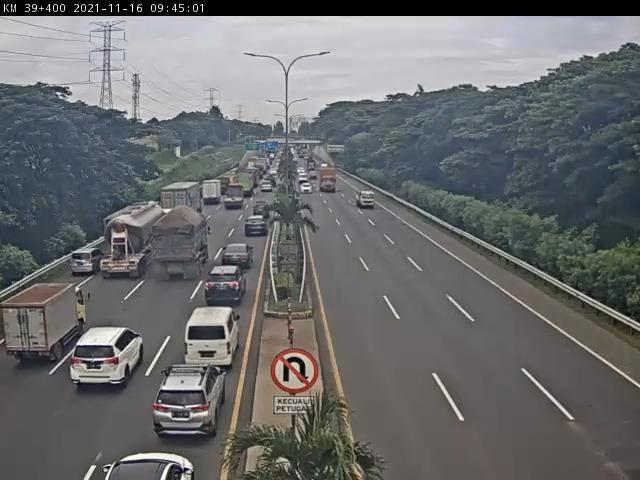car: (153, 367, 226, 437), (71, 327, 145, 388), (184, 310, 240, 370), (205, 268, 246, 307), (71, 249, 108, 277), (221, 246, 254, 272), (243, 219, 267, 239), (252, 202, 270, 221)
truck: (3, 281, 92, 363), (102, 202, 173, 280), (151, 204, 212, 283), (159, 182, 204, 230), (221, 186, 245, 212), (200, 179, 222, 207)
